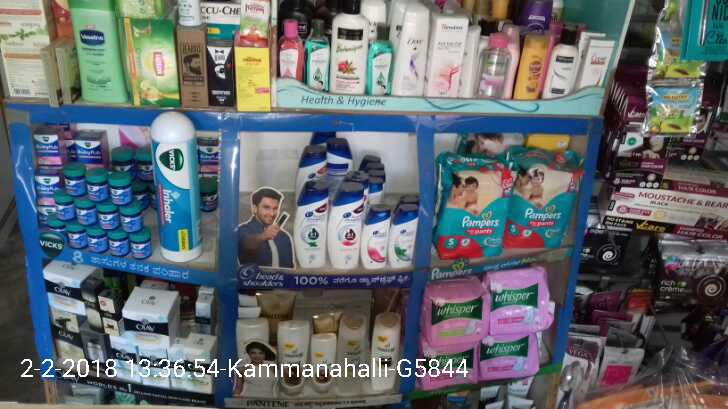beauty: (335, 308, 372, 393), (293, 180, 327, 269), (276, 320, 311, 398), (330, 180, 359, 270), (370, 308, 398, 390), (390, 203, 416, 274), (359, 202, 385, 271), (93, 293, 128, 340), (309, 331, 336, 390), (127, 308, 165, 347), (46, 272, 82, 312)
pharmacy: (444, 149, 506, 263), (505, 153, 566, 253), (489, 271, 559, 331), (422, 285, 489, 343), (481, 330, 539, 381), (105, 169, 134, 205), (117, 201, 144, 234), (33, 135, 60, 166), (85, 167, 108, 202), (62, 164, 85, 199), (72, 138, 101, 164), (97, 203, 125, 226), (101, 268, 102, 269)
